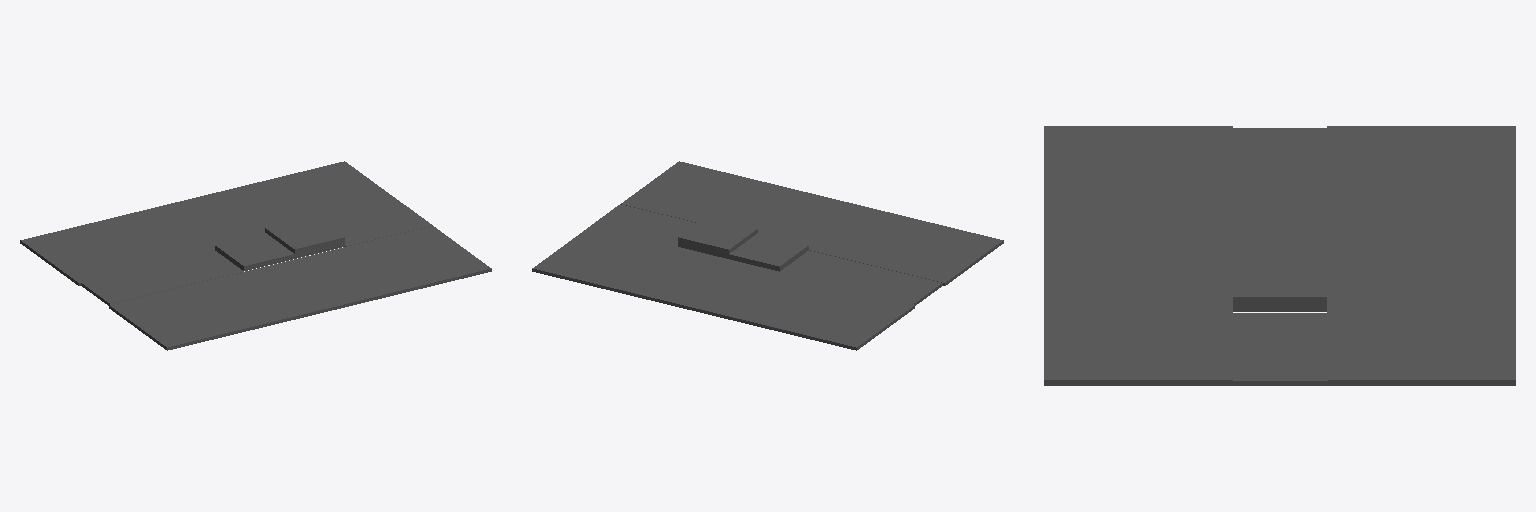
URDF robot description (lab_scene):
<?xml version="1.0" ?>
<robot name="lab_scene" xmlns:xacro="http://ros.org/wiki/xacro">
  <link name="base_link">
    <inertial>
      <mass value="200" />
      <inertia ixx="1.0" ixy="0.0" ixz="0.0" iyy="1.0" iyz="0.0" izz="1.0" />
    </inertial>
    <visual>
      <origin rpy="0 0 0" xyz="0 0 0"/>
      <geometry>
        <mesh filename="package://meshes/two_step.stl"/>
      </geometry>
      <material name="">
        <color rgba="0.4 0.4 0.4 1.0"/>
      </material>
    </visual>
    <collision concave="yes">
      <origin rpy="0 0 0" xyz="0 0 0"/>
      <geometry>
        <mesh filename="package://meshes/two_step.stl"/>
      </geometry>
    </collision>
  </link>
  <gazebo>
    <static>1</static>
  </gazebo>
</robot>

--- Facts derived from the render (not from the file) ---
3 views of the same robot in one strip: view 1: azimuth 30°, elevation 25°; view 2: azimuth 150°, elevation 25°; view 3: azimuth 270°, elevation 25° (orthographic).
Robot: lab_scene — 1 links, 0 joints (none); root link base_link; default pose: every joint at zero.
Links seen in each view (by area): view 1: base_link; view 2: base_link; view 3: base_link.
Link boxes in pixels (x1,y1,x2,y2): base_link: (20, 161, 491, 350); base_link: (532, 161, 1003, 350); base_link: (1044, 126, 1515, 385).
Bounding box of the posed robot: 6.41 × 5.01 × 0.2401 m (x, y, z).
1 mesh visuals loaded from 1 distinct referenced files (1 binary STL).